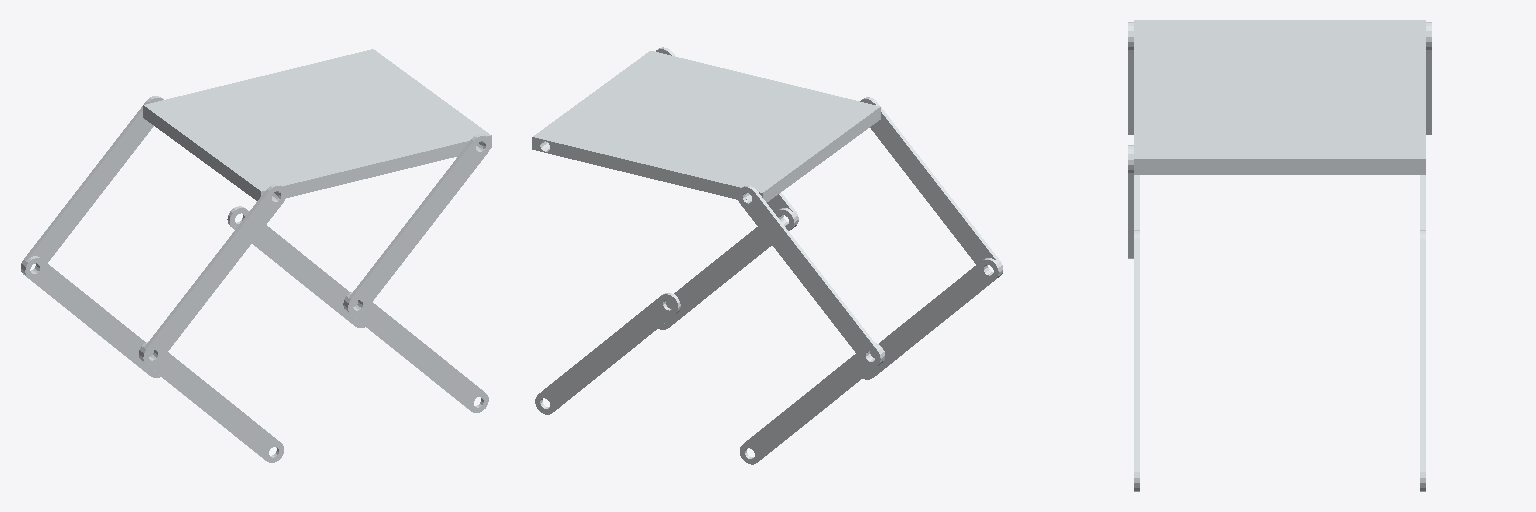
The robot description file, URDF, robot "urdfgenesyssw":
<?xml version="1.0" ?>
<!-- =================================================================================== -->
<!-- |    This document was autogenerated by xacro from urdfgenesyssw.xacro            | -->
<!-- |    EDITING THIS FILE BY HAND IS NOT RECOMMENDED                                 | -->
<!-- =================================================================================== -->
<!-- This URDF was automatically created by SolidWorks to URDF Exporter! Originally created by [author] ([email redacted]) 
     Commit Version: 1.5.1-0-g916b5db  Build Version: 1.5.7152.31018
     For more information, please see http://wiki.ros.org/sw_urdf_exporter -->
<robot name="urdfgenesyssw" xmlns:xacro="http://www.ros.org/wiki/xacro">
  <gazebo>
    <plugin filename="libgazebo_ros_control.so" name="gazebo_ros_control">
      <robotSimType>gazebo_ros_control/DefaultRobotHWSim</robotSimType>
      <legacyModeNS>true</legacyModeNS>
    </plugin>
  </gazebo>
  <link name="BL">
    <inertial>
      <origin rpy="0 0 0" xyz="0 0 0"/>
      <mass value="1.3732"/>
      <inertia ixx="0.0045942" ixy="0" ixz="0" iyy="0.0053191" iyz="0" izz="0.0098794"/>
    </inertial>
    <visual>
      <origin rpy="0 0 0" xyz="0 0 0"/>
      <geometry>
        <mesh filename="package://urdfgenesyssw/meshes/BL.STL"/>
      </geometry>
      <material name="">
        <color rgba="0.89804 0.91765 0.92941 1"/>
      </material>
    </visual>
    <collision>
      <origin rpy="0 0 0" xyz="0 0 0"/>
      <geometry>
        <mesh filename="package://urdfgenesyssw/meshes/BL.STL"/>
      </geometry>
    </collision>
  </link>
  <link name="LFT">
    <inertial>
      <origin rpy="0 0 0" xyz="0 -0.085 0"/>
      <mass value="0.038416"/>
      <inertia ixx="0.00010326" ixy="0" ixz="0" iyy="1.3494E-06" iyz="0" izz="0.00010451"/>
    </inertial>
    <visual>
      <origin rpy="0 0 0" xyz="0 0 0"/>
      <geometry>
        <mesh filename="package://urdfgenesyssw/meshes/LFT.STL"/>
      </geometry>
      <material name="">
        <color rgba="0.89804 0.91765 0.92941 1"/>
      </material>
    </visual>
    <collision>
      <origin rpy="0 0 0" xyz="0 0 0"/>
      <geometry>
        <mesh filename="package://urdfgenesyssw/meshes/LFT.STL"/>
      </geometry>
    </collision>
  </link>
  <joint name="BLLFT" type="revolute">
    <origin rpy="1.5708 0.7854 0" xyz="0.1 0.102 0"/>
    <parent link="BL"/>
    <child link="LFT"/>
    <axis xyz="0 0 1"/>
    <limit effort="100" lower="-0.7854" upper="0.7854" velocity="100"/>
  </joint>
  <link name="LFC">
    <inertial>
      <origin rpy="0 0 0" xyz="0 -0.085 0"/>
      <mass value="0.038416"/>
      <inertia ixx="0.00010326" ixy="0" ixz="0" iyy="1.3494E-06" iyz="0" izz="0.00010451"/>
    </inertial>
    <visual>
      <origin rpy="0 0 0" xyz="0 0 0"/>
      <geometry>
        <mesh filename="package://urdfgenesyssw/meshes/LFC.STL"/>
      </geometry>
      <material name="">
        <color rgba="0.89804 0.91765 0.92941 1"/>
      </material>
    </visual>
    <collision>
      <origin rpy="0 0 0" xyz="0 0 0"/>
      <geometry>
        <mesh filename="package://urdfgenesyssw/meshes/LFC.STL"/>
      </geometry>
    </collision>
  </link>
  <joint name="LFTLFC" type="revolute">
    <origin rpy="0 0 1.5708" xyz="0 -0.17 0.004"/>
    <parent link="LFT"/>
    <child link="LFC"/>
    <axis xyz="0 0 1"/>
    <limit effort="100" lower="-0.7854" upper="0.7854" velocity="100"/>
  </joint>
  <link name="LHT">
    <inertial>
      <origin rpy="0 0 0" xyz="0 -0.085 0"/>
      <mass value="0.038416"/>
      <inertia ixx="0.00010326" ixy="0" ixz="0" iyy="1.3494E-06" iyz="0" izz="0.00010451"/>
    </inertial>
    <visual>
      <origin rpy="0 0 0" xyz="0 0 0"/>
      <geometry>
        <mesh filename="package://urdfgenesyssw/meshes/LHT.STL"/>
      </geometry>
      <material name="">
        <color rgba="0.89804 0.91765 0.92941 1"/>
      </material>
    </visual>
    <collision>
      <origin rpy="0 0 0" xyz="0 0 0"/>
      <geometry>
        <mesh filename="package://urdfgenesyssw/meshes/LHT.STL"/>
      </geometry>
    </collision>
  </link>
  <joint name="BLLHT" type="revolute">
    <origin rpy="1.5708 0.7854 0" xyz="-0.1 0.102 0"/>
    <parent link="BL"/>
    <child link="LHT"/>
    <axis xyz="0 0 1"/>
    <limit effort="100" lower="-0.7854" upper="0.7854" velocity="100"/>
  </joint>
  <link name="LHC">
    <inertial>
      <origin rpy="0 0 0" xyz="0 -0.085 0"/>
      <mass value="0.038416"/>
      <inertia ixx="0.00010326" ixy="0" ixz="0" iyy="1.3494E-06" iyz="0" izz="0.00010451"/>
    </inertial>
    <visual>
      <origin rpy="0 0 0" xyz="0 0 0"/>
      <geometry>
        <mesh filename="package://urdfgenesyssw/meshes/LHC.STL"/>
      </geometry>
      <material name="">
        <color rgba="0.89804 0.91765 0.92941 1"/>
      </material>
    </visual>
    <collision>
      <origin rpy="0 0 0" xyz="0 0 0"/>
      <geometry>
        <mesh filename="package://urdfgenesyssw/meshes/LHC.STL"/>
      </geometry>
    </collision>
  </link>
  <joint name="LHTLHC" type="revolute">
    <origin rpy="0 0 1.5708" xyz="0 -0.17 0.004"/>
    <parent link="LHT"/>
    <child link="LHC"/>
    <axis xyz="0 0 1"/>
    <limit effort="100" lower="-0.7854" upper="0.7854" velocity="100"/>
  </joint>
  <link name="RFT">
    <inertial>
      <origin rpy="0 0 0" xyz="0 -0.085 0"/>
      <mass value="0.038416"/>
      <inertia ixx="0.00010326" ixy="0" ixz="0" iyy="1.3494E-06" iyz="0" izz="0.00010451"/>
    </inertial>
    <visual>
      <origin rpy="0 0 0" xyz="0 0 0"/>
      <geometry>
        <mesh filename="package://urdfgenesyssw/meshes/RFT.STL"/>
      </geometry>
      <material name="">
        <color rgba="0.89804 0.91765 0.92941 1"/>
      </material>
    </visual>
    <collision>
      <origin rpy="0 0 0" xyz="0 0 0"/>
      <geometry>
        <mesh filename="package://urdfgenesyssw/meshes/RFT.STL"/>
      </geometry>
    </collision>
  </link>
  <joint name="BLRFT" type="revolute">
    <origin rpy="1.5708 0.7854 0" xyz="0.1 -0.102 0"/>
    <parent link="BL"/>
    <child link="RFT"/>
    <axis xyz="0 0 1"/>
    <limit effort="100" lower="-0.7854" upper="0.7854" velocity="100"/>
  </joint>
  <link name="RFC">
    <inertial>
      <origin rpy="0 0 0" xyz="0 -0.085 0"/>
      <mass value="0.038416"/>
      <inertia ixx="0.00010326" ixy="0" ixz="0" iyy="1.3494E-06" iyz="0" izz="0.00010451"/>
    </inertial>
    <visual>
      <origin rpy="0 0 0" xyz="0 0 0"/>
      <geometry>
        <mesh filename="package://urdfgenesyssw/meshes/RFC.STL"/>
      </geometry>
      <material name="">
        <color rgba="0.89804 0.91765 0.92941 1"/>
      </material>
    </visual>
    <collision>
      <origin rpy="0 0 0" xyz="0 0 0"/>
      <geometry>
        <mesh filename="package://urdfgenesyssw/meshes/RFC.STL"/>
      </geometry>
    </collision>
  </link>
  <joint name="RFTRFC" type="revolute">
    <origin rpy="0 0 1.5708" xyz="0 -0.17 -0.004"/>
    <parent link="RFT"/>
    <child link="RFC"/>
    <axis xyz="0 0 1"/>
    <limit effort="100" lower="-0.7854" upper="0.7854" velocity="100"/>
  </joint>
  <link name="RHT">
    <inertial>
      <origin rpy="0 0 0" xyz="0 -0.085 0"/>
      <mass value="0.038416"/>
      <inertia ixx="0.00010326" ixy="0" ixz="0" iyy="1.3494E-06" iyz="0" izz="0.00010451"/>
    </inertial>
    <visual>
      <origin rpy="0 0 0" xyz="0 0 0"/>
      <geometry>
        <mesh filename="package://urdfgenesyssw/meshes/RHT.STL"/>
      </geometry>
      <material name="">
        <color rgba="0.89804 0.91765 0.92941 1"/>
      </material>
    </visual>
    <collision>
      <origin rpy="0 0 0" xyz="0 0 0"/>
      <geometry>
        <mesh filename="package://urdfgenesyssw/meshes/RHT.STL"/>
      </geometry>
    </collision>
  </link>
  <joint name="BLRHT" type="revolute">
    <origin rpy="1.5708 0.7854 0" xyz="-0.1 -0.102 0"/>
    <parent link="BL"/>
    <child link="RHT"/>
    <axis xyz="0 0 1"/>
    <limit effort="100" lower="-0.7854" upper="0.7854" velocity="100"/>
  </joint>
  <link name="RHC">
    <inertial>
      <origin rpy="0 0 0" xyz="0 -0.085 0"/>
      <mass value="0.038416"/>
      <inertia ixx="0.00010326" ixy="0" ixz="0" iyy="1.3494E-06" iyz="0" izz="0.00010451"/>
    </inertial>
    <visual>
      <origin rpy="0 0 0" xyz="0 0 0"/>
      <geometry>
        <mesh filename="package://urdfgenesyssw/meshes/RHC.STL"/>
      </geometry>
      <material name="">
        <color rgba="0.89804 0.91765 0.92941 1"/>
      </material>
    </visual>
    <collision>
      <origin rpy="0 0 0" xyz="0 0 0"/>
      <geometry>
        <mesh filename="package://urdfgenesyssw/meshes/RHC.STL"/>
      </geometry>
    </collision>
  </link>
  <joint name="RHTRHC" type="revolute">
    <origin rpy="0 0 1.5708" xyz="0 -0.17 -0.004"/>
    <parent link="RHT"/>
    <child link="RHC"/>
    <axis xyz="0 0 1"/>
    <limit effort="100" lower="-0.7854" upper="0.7854" velocity="100"/>
  </joint>
  <transmission name="BLLFT_trans">
    <type>transmission_interface/SimpleTransmission</type>
    <joint name="BLLFT">
      <hardwareInterface>hardware_interface/EffortJointInterface</hardwareInterface>
    </joint>
    <actuator name="BLLFT_motor">
      <hardwareInterface>hardware_interface/EffortJointInterface</hardwareInterface>
      <mechanicalReduction>1</mechanicalReduction>
    </actuator>
  </transmission>
  <transmission name="LFTLFC_trans">
    <type>transmission_interface/SimpleTransmission</type>
    <joint name="LFTLFC">
      <hardwareInterface>hardware_interface/EffortJointInterface</hardwareInterface>
    </joint>
    <actuator name="LFTLFC_motor">
      <hardwareInterface>hardware_interface/EffortJointInterface</hardwareInterface>
      <mechanicalReduction>1</mechanicalReduction>
    </actuator>
  </transmission>
  <transmission name="BLLHT_trans">
    <type>transmission_interface/SimpleTransmission</type>
    <joint name="BLLHT">
      <hardwareInterface>hardware_interface/EffortJointInterface</hardwareInterface>
    </joint>
    <actuator name="BLLHT_motor">
      <hardwareInterface>hardware_interface/EffortJointInterface</hardwareInterface>
      <mechanicalReduction>1</mechanicalReduction>
    </actuator>
  </transmission>
  <transmission name="LHTLHC_trans">
    <type>transmission_interface/SimpleTransmission</type>
    <joint name="LHTLHC">
      <hardwareInterface>hardware_interface/EffortJointInterface</hardwareInterface>
    </joint>
    <actuator name="LHTLHC_motor">
      <hardwareInterface>hardware_interface/EffortJointInterface</hardwareInterface>
      <mechanicalReduction>1</mechanicalReduction>
    </actuator>
  </transmission>
  <transmission name="BLRFT_trans">
    <type>transmission_interface/SimpleTransmission</type>
    <joint name="BLRFT">
      <hardwareInterface>hardware_interface/EffortJointInterface</hardwareInterface>
    </joint>
    <actuator name="BLRFT_motor">
      <hardwareInterface>hardware_interface/EffortJointInterface</hardwareInterface>
      <mechanicalReduction> 1 </mechanicalReduction>
    </actuator>
  </transmission>
  <transmission name="RFTRFC_trans">
    <type>transmission_interface/SimpleTransmission</type>
    <joint name="RFTRFC">
      <hardwareInterface>hardware_interface/EffortJointInterface</hardwareInterface>
    </joint>
    <actuator name="RFTRFC_motor">
      <hardwareInterface>hardware_interface/EffortJointInterface</hardwareInterface>
      <mechanicalReduction> 1 </mechanicalReduction>
    </actuator>
  </transmission>
  <transmission name="BLRHT_trans">
    <type>transmission_interface/SimpleTransmission</type>
    <joint name="BLRHT">
      <hardwareInterface>hardware_interface/EffortJointInterface</hardwareInterface>
    </joint>
    <actuator name="BLRHT_motor">
      <hardwareInterface>hardware_interface/EffortJointInterface</hardwareInterface>
      <mechanicalReduction> 1 </mechanicalReduction>
    </actuator>
  </transmission>
  <transmission name="RHTRHC_trans">
    <type>transmission_interface/SimpleTransmission</type>
    <joint name="RHTRHC">
      <hardwareInterface>hardware_interface/EffortJointInterface</hardwareInterface>
    </joint>
    <actuator name="RHTRHC_motor">
      <hardwareInterface>hardware_interface/EffortJointInterface</hardwareInterface>
      <mechanicalReduction> 1 </mechanicalReduction>
    </actuator>
  </transmission>
</robot>

--- Render facts (derived) ---
3 views of the same robot in one strip: view 1: azimuth 30°, elevation 25°; view 2: azimuth 150°, elevation 25°; view 3: azimuth 270°, elevation 25° (orthographic).
Model urdfgenesyssw with 9 links and 8 joints (8 revolute), rooted at BL, posed all joints at 0.
Visible links, largest first — view 1: BL, RFT, RHT, LHT, RFC, RHC, LHC, LFC; view 2: BL, LHT, LFC, RHT, LHC, RHC, RFC; view 3: BL, LFC, RFC, RFT, LHT, RHT.
Link boxes in pixels (bbox=[...]): BL: bbox=[143, 49, 491, 200]; RFT: bbox=[346, 134, 490, 315]; RHT: bbox=[141, 184, 286, 365]; LHT: bbox=[21, 96, 163, 274]; RFC: bbox=[343, 292, 488, 412]; RHC: bbox=[139, 341, 283, 462]; LHC: bbox=[23, 256, 160, 377]; LFC: bbox=[227, 206, 364, 327]; BL: bbox=[532, 51, 880, 202]; LHT: bbox=[737, 186, 882, 367]; LFC: bbox=[535, 293, 680, 414]; RHT: bbox=[860, 97, 1002, 277]; LHC: bbox=[740, 343, 884, 464]; RHC: bbox=[863, 258, 1000, 379]; RFC: bbox=[658, 208, 796, 329]; BL: bbox=[1134, 20, 1425, 174]; LFC: bbox=[1420, 230, 1425, 491]; RFC: bbox=[1134, 230, 1139, 491]; RFT: bbox=[1128, 145, 1133, 258]; LHT: bbox=[1426, 22, 1431, 134]; RHT: bbox=[1128, 22, 1133, 134].
Bounding box of the posed robot: 0.3427 × 0.208 × 0.2604 m (x, y, z).
Meshes: 9 distinct files referenced, 8 mesh visuals loaded (8 binary STL); not drawn: 1 (reference not matched to a file when rendering).